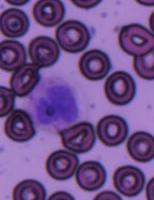M: (26, 75, 88, 132)
